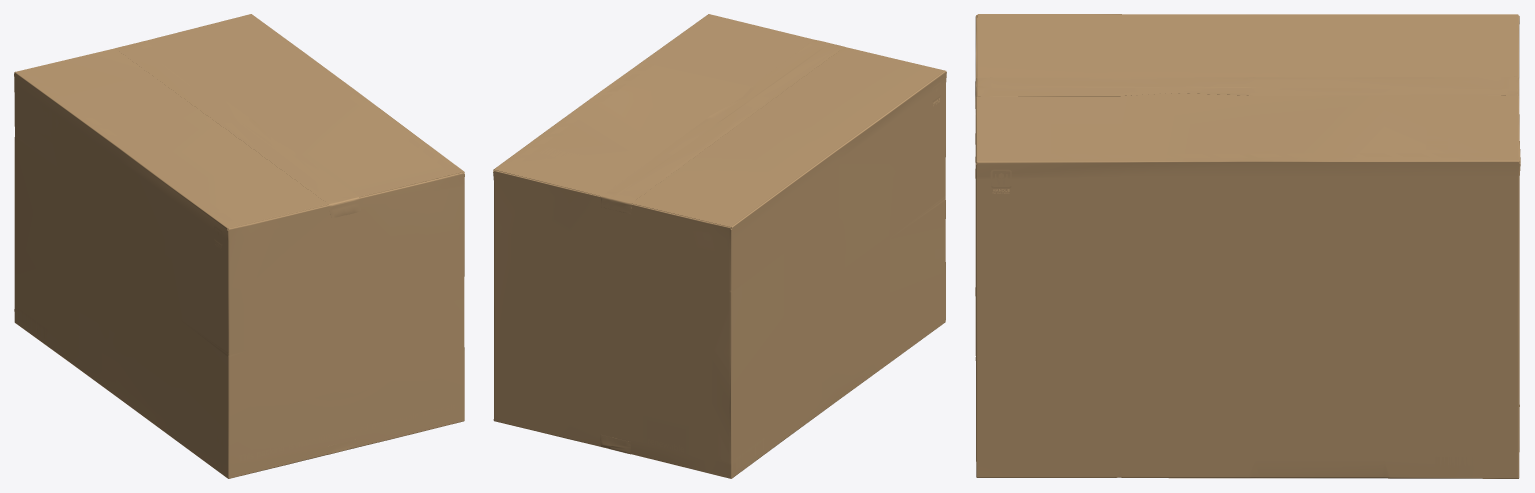
The model's file is box_corrugated_white_b19.glb.
3 renders of one model, left to right at view 1: azimuth 30°, elevation 25°; view 2: azimuth 150°, elevation 25°; view 3: azimuth 270°, elevation 25°, orthographic. The views are drawn at different scales.
Size of the model in its own units: 0.299 by 0.3019 by 0.4674.
